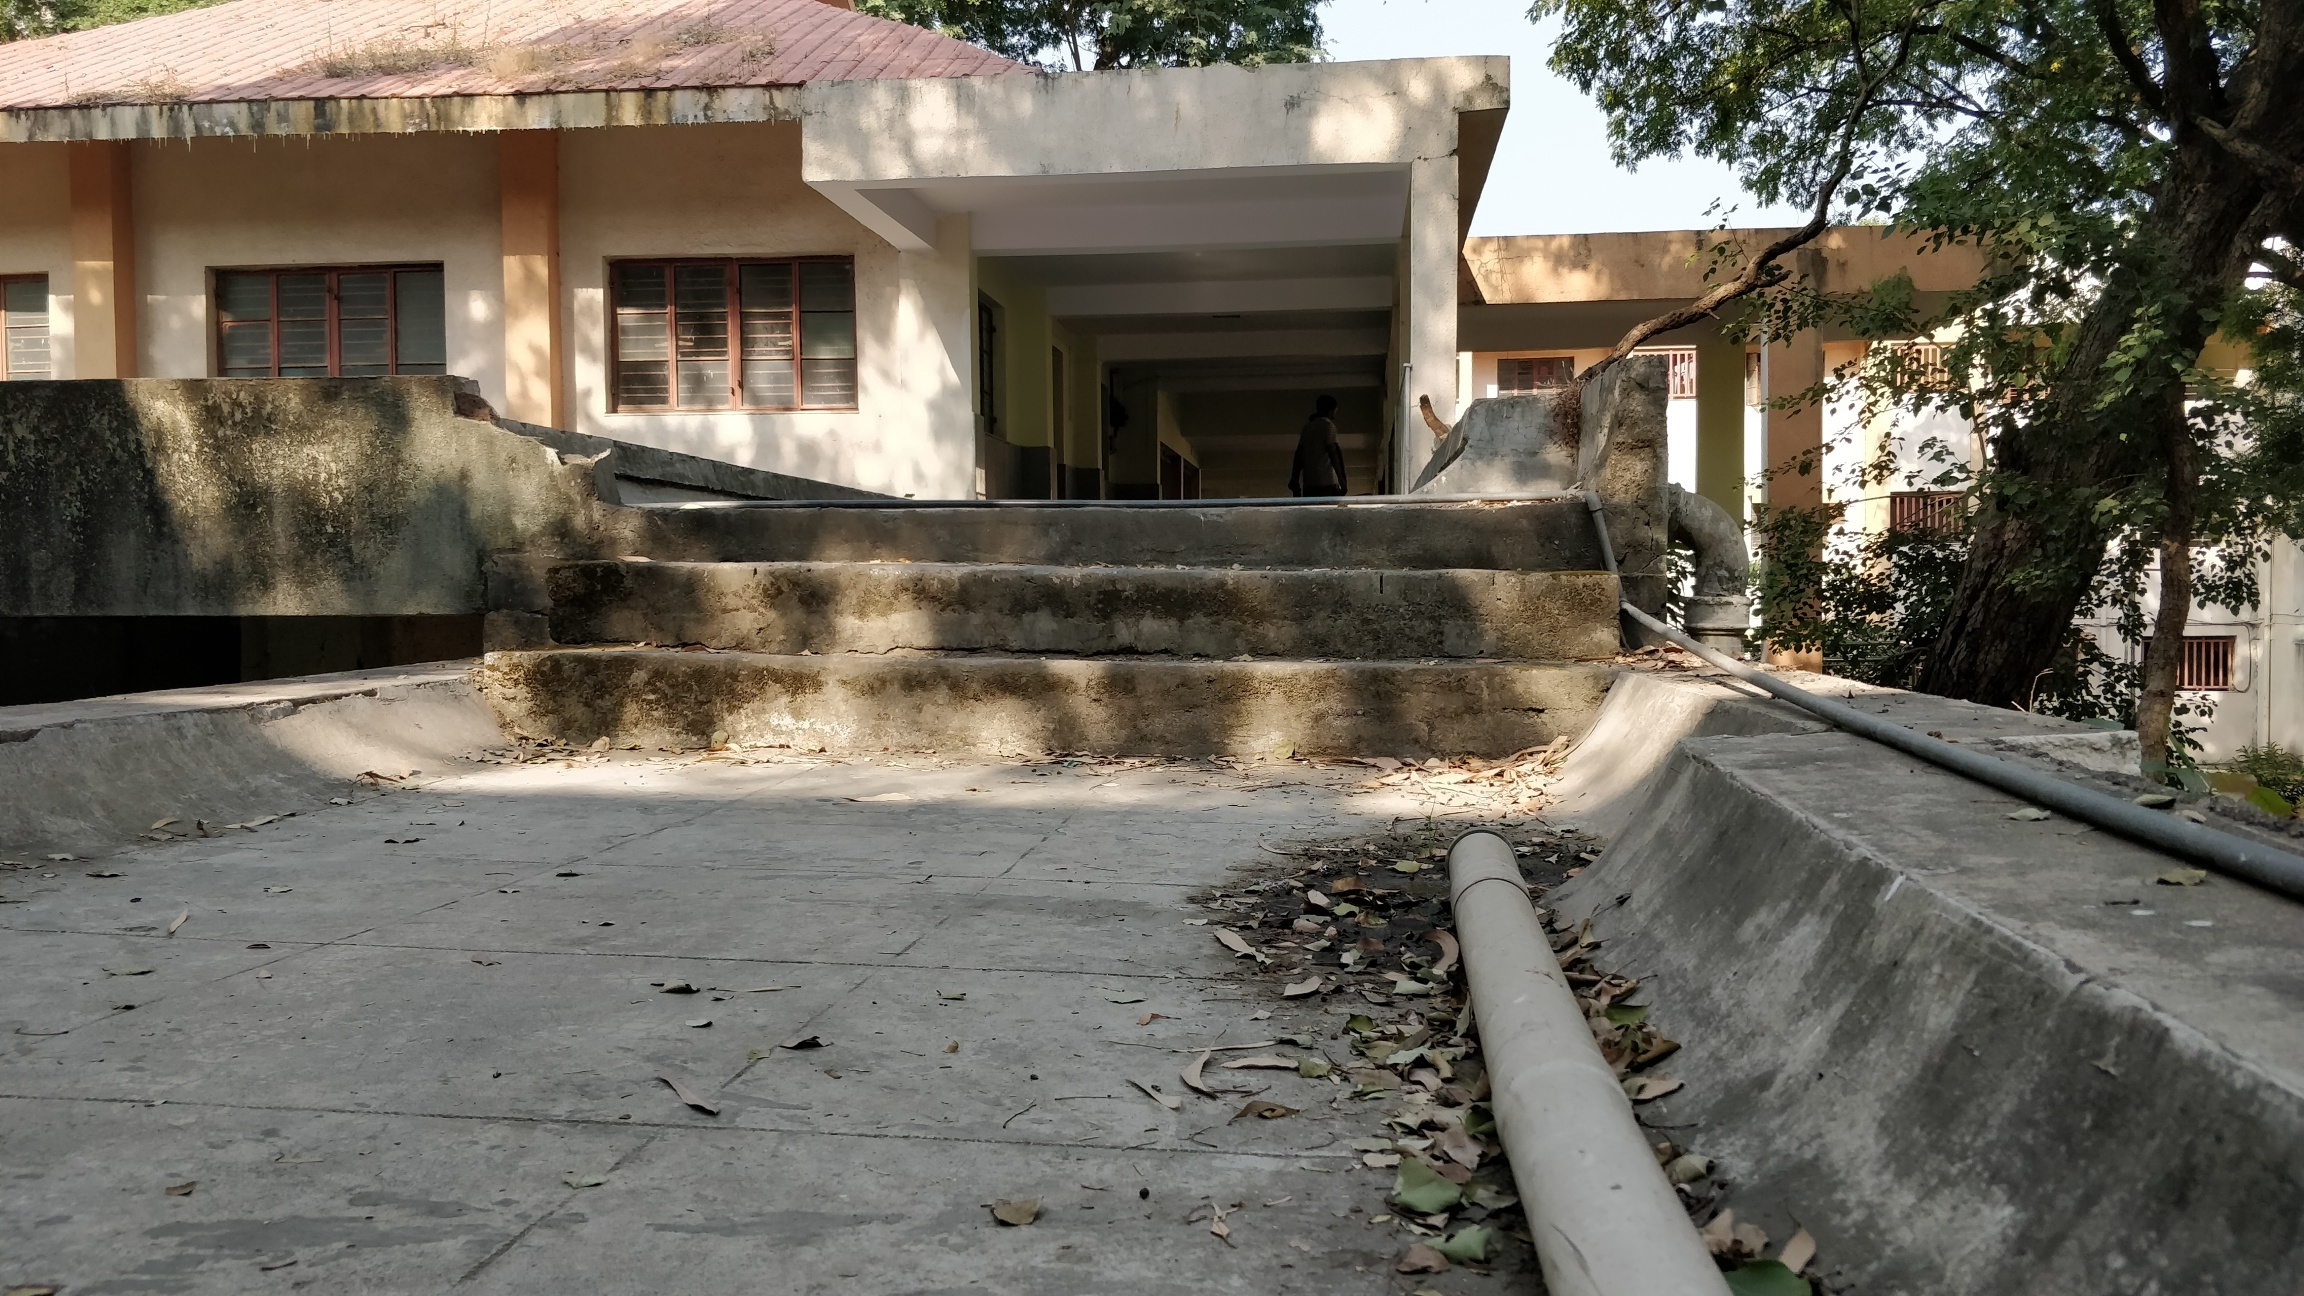stairs_up: (522, 510, 1592, 783)
